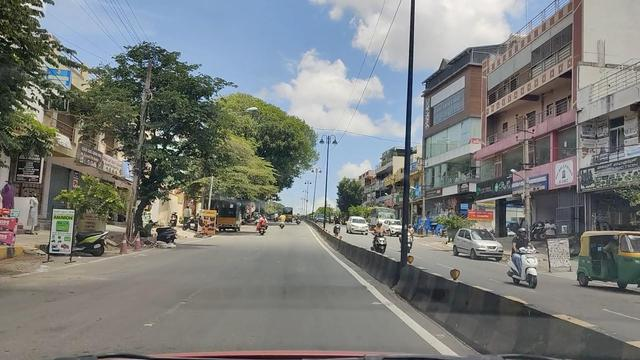HMV: (211, 194, 242, 235)
